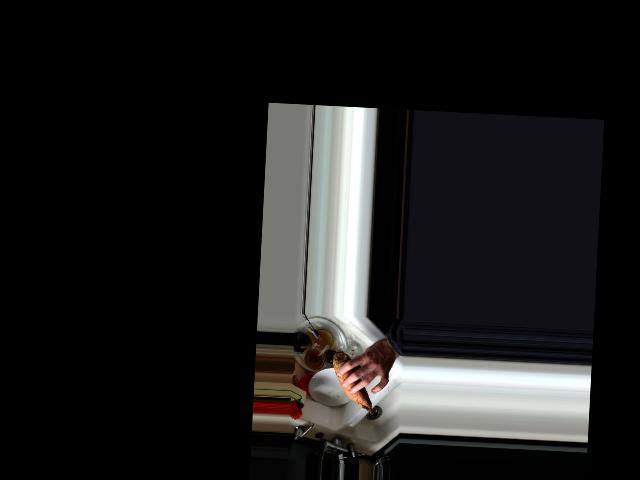sweet_potato: (330, 351, 377, 415)
